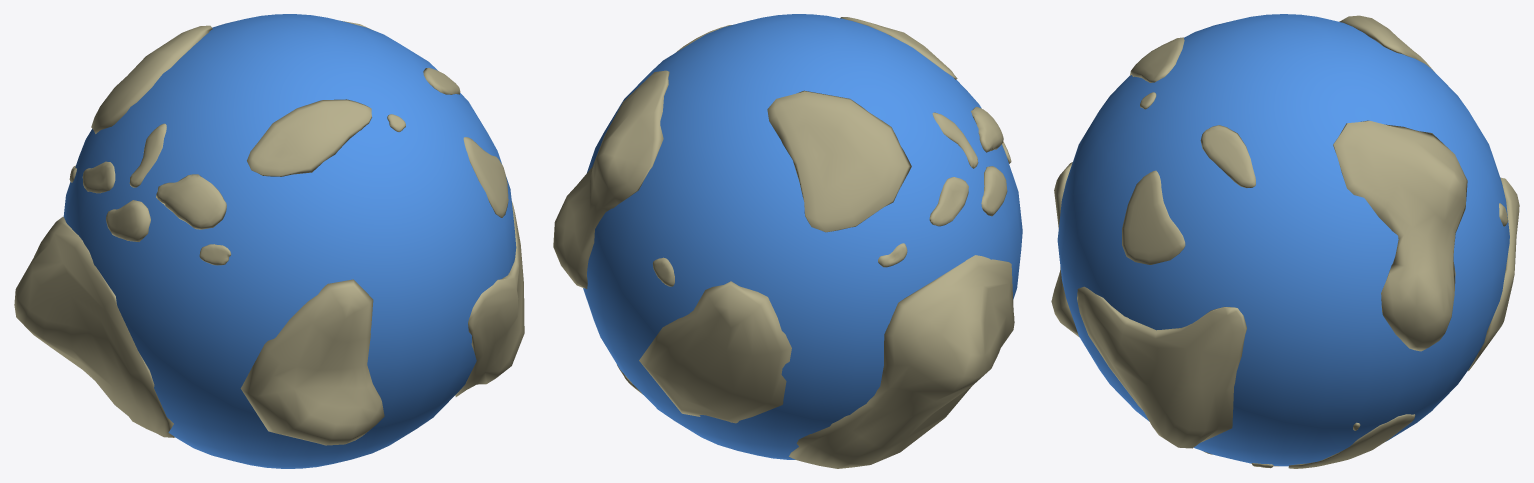
The model's file is planet4_sand.fbx.
3 renders of one model, left to right at view 1: azimuth 30°, elevation 25°; view 2: azimuth 150°, elevation 25°; view 3: azimuth 270°, elevation 25°, orthographic.
Visible parts, largest first — view 1: planet_low, sand; view 2: planet_low, sand; view 3: planet_low, sand.
Boxes of the visible parts, left/top/right/bottom form: planet_low: left=63, top=14, right=516, bottom=468; sand: left=14, top=21, right=524, bottom=445; planet_low: left=583, top=14, right=1022, bottom=459; sand: left=553, top=17, right=1014, bottom=468; planet_low: left=1057, top=14, right=1509, bottom=466; sand: left=1051, top=15, right=1519, bottom=468.
Size of the model in its own units: 216 by 200 by 207.
